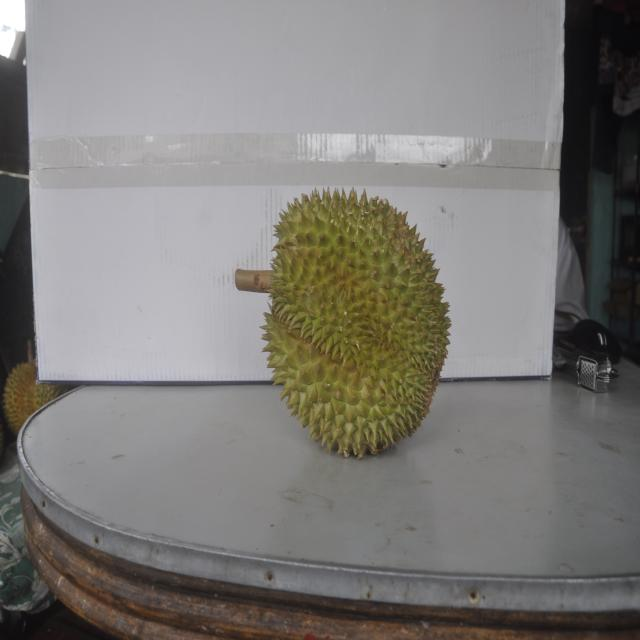mature: (255, 184, 448, 460), (2, 359, 63, 437)
